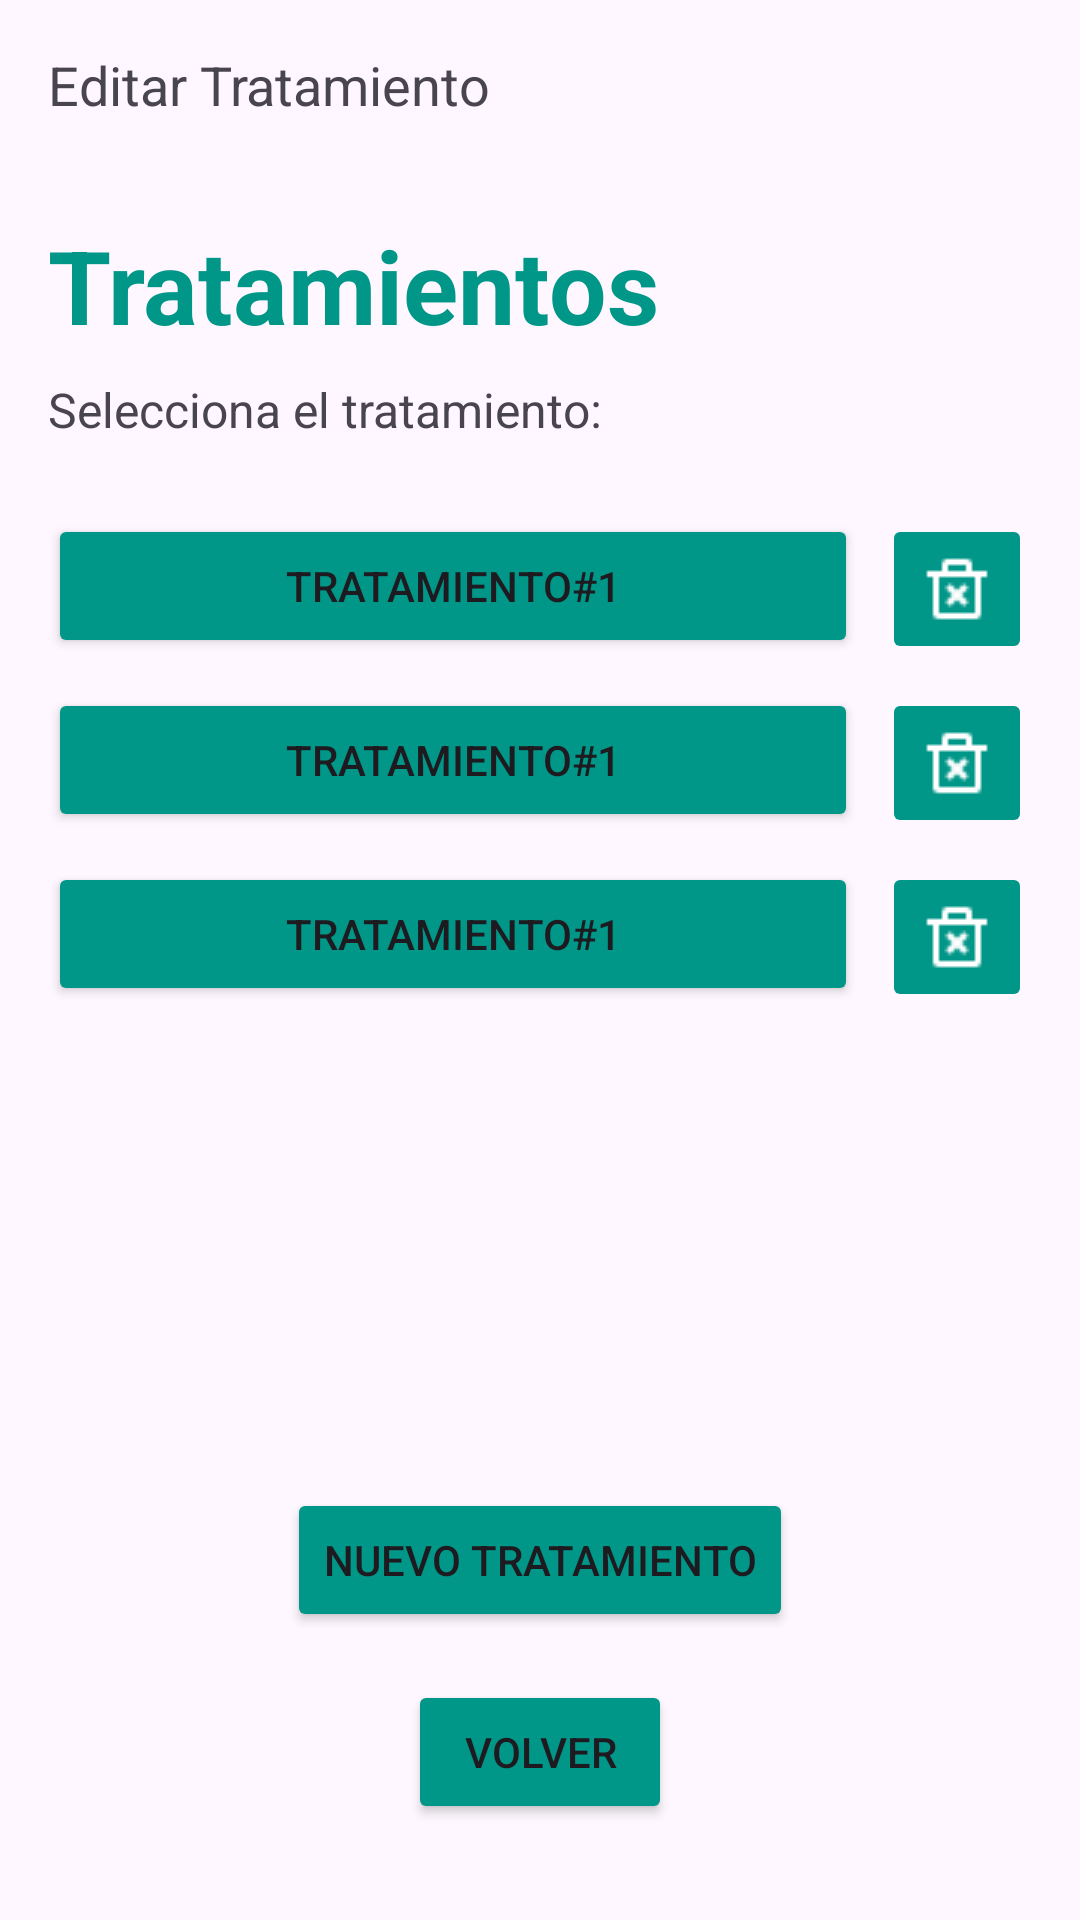

Locate icon controls on the screen. Image size 1080×1920, boxes as (x1, y1, x2, y2).
Eliminar: (894, 532, 1020, 646), (894, 706, 1020, 820), (894, 880, 1020, 994)
